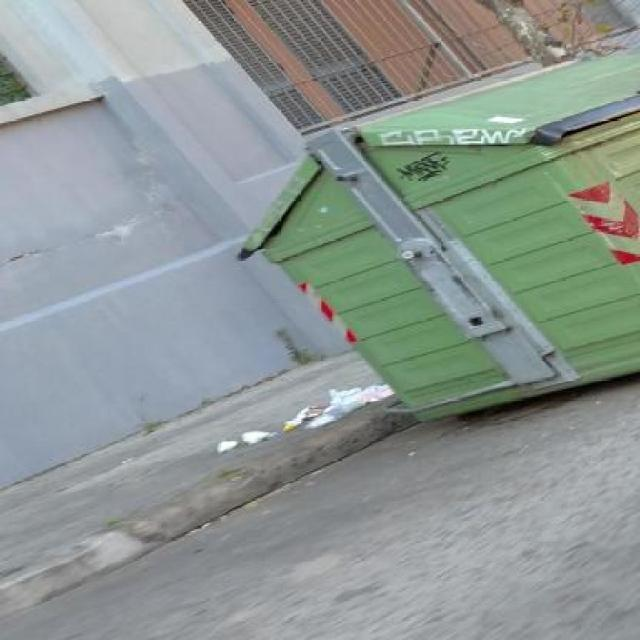garbage: (222, 387, 423, 446)
